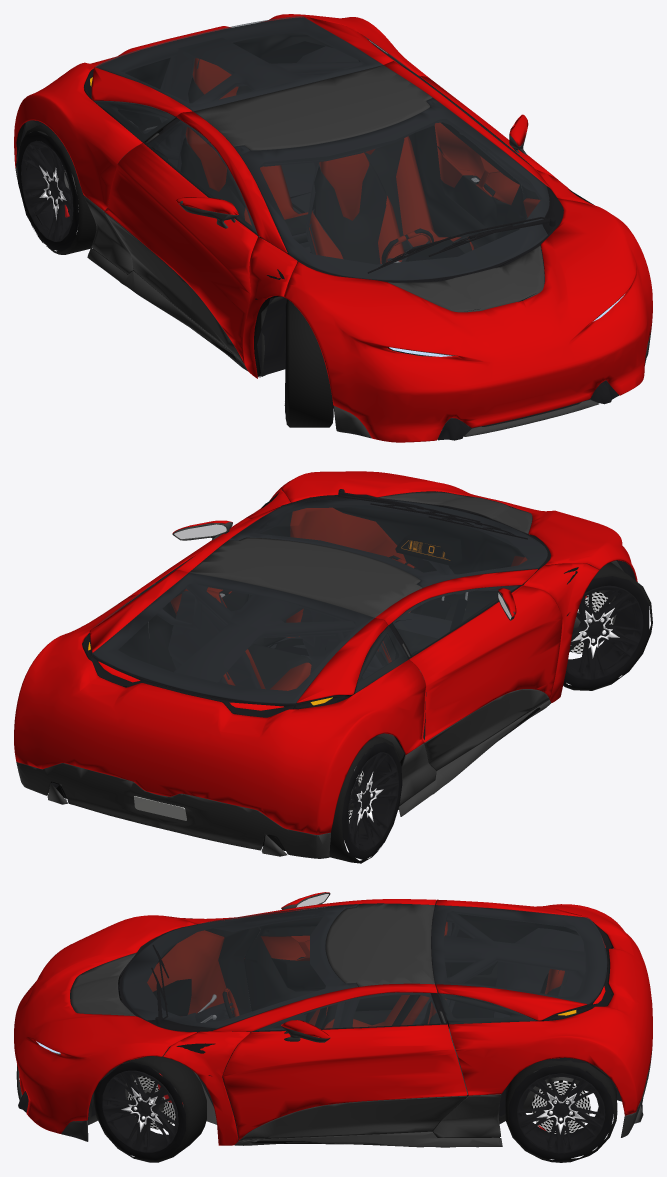
File: concept-gt.glb
3 renders of one model, top to bottom at view 1: azimuth 30°, elevation 25°; view 2: azimuth 150°, elevation 25°; view 3: azimuth 270°, elevation 25°, orthographic. The views are drawn at different scales.
Visible parts, largest first — view 1: BodyHood, BodyWindshield, BodyRearwindow, BodyDoorRColor1, BodyRearPanelsColor1, BodyRoofPanel, BodyWindshieldGasket, InteriorSeatsColor1, InteriorSeatsColor2, BodyPillars, InteriorPillar, InteriorRearHatch (+20 smaller); view 2: BodyRearPanelsColor1, BodyRearwindow, BodyWindshield, BodyDoorRColor1, BodyPanelsColor2, BodyRoofPanel, BodyHood, InteriorRearHatch, InteriorPillar, BodyPillars, InteriorDashMid, BodyWindshieldGasket (+22 smaller); view 3: BodyWindshield, BodyRearPanelsColor1, BodyDoorLColor1, BodyHood, BodyRearwindow, BodyRoofPanel, BodyPillars, BodyWindshieldGasket, BodyDoorLColor2, BodyPanelsColor2, WheelFrontL, InteriorPillar (+25 smaller).
Part boxes in pixels (x1,y1,x2,y2): BodyHood: [283, 198, 652, 442]; BodyWindshield: [234, 98, 549, 280]; BodyRearwindow: [94, 16, 382, 111]; BodyDoorRColor1: [104, 143, 257, 363]; BodyRearPanelsColor1: [14, 14, 428, 210]; BodyRoofPanel: [193, 65, 432, 150]; BodyWindshieldGasket: [234, 99, 563, 282]; InteriorSeatsColor1: [185, 58, 473, 263]; InteriorSeatsColor2: [180, 78, 471, 264]; BodyPillars: [177, 61, 598, 378]; InteriorPillar: [159, 37, 434, 167]; InteriorRearHatch: [94, 17, 383, 118]; BodyRearPanelsColor1: [14, 569, 425, 834]; BodyRearwindow: [92, 572, 374, 703]; BodyWindshield: [229, 496, 547, 587]; BodyDoorRColor1: [409, 585, 562, 742]; BodyPanelsColor2: [16, 700, 550, 858]; BodyRoofPanel: [189, 537, 422, 617]; BodyHood: [278, 471, 637, 581]; InteriorRearHatch: [93, 573, 386, 708]; InteriorPillar: [174, 574, 417, 682]; BodyPillars: [175, 489, 599, 702]; InteriorDashMid: [333, 506, 524, 622]; BodyWindshieldGasket: [230, 497, 550, 587]; BodyWindshield: [122, 904, 358, 1028]; BodyRearPanelsColor1: [436, 899, 652, 1115]; BodyDoorLColor1: [222, 1024, 467, 1139]; BodyHood: [14, 915, 196, 1133]; BodyRearwindow: [431, 905, 607, 1004]; BodyRoofPanel: [326, 903, 434, 986]; BodyPillars: [163, 899, 437, 1145]; BodyWindshieldGasket: [118, 905, 357, 1032]; BodyDoorLColor2: [240, 1096, 467, 1140]; BodyPanelsColor2: [16, 1046, 652, 1147]; WheelFrontL: [93, 1054, 206, 1162]; InteriorPillar: [325, 911, 585, 1027].
Bounding box in the file's own units: 2.54 × 1.15 × 4.36.
Materials: 23 (5 with a texture image).
